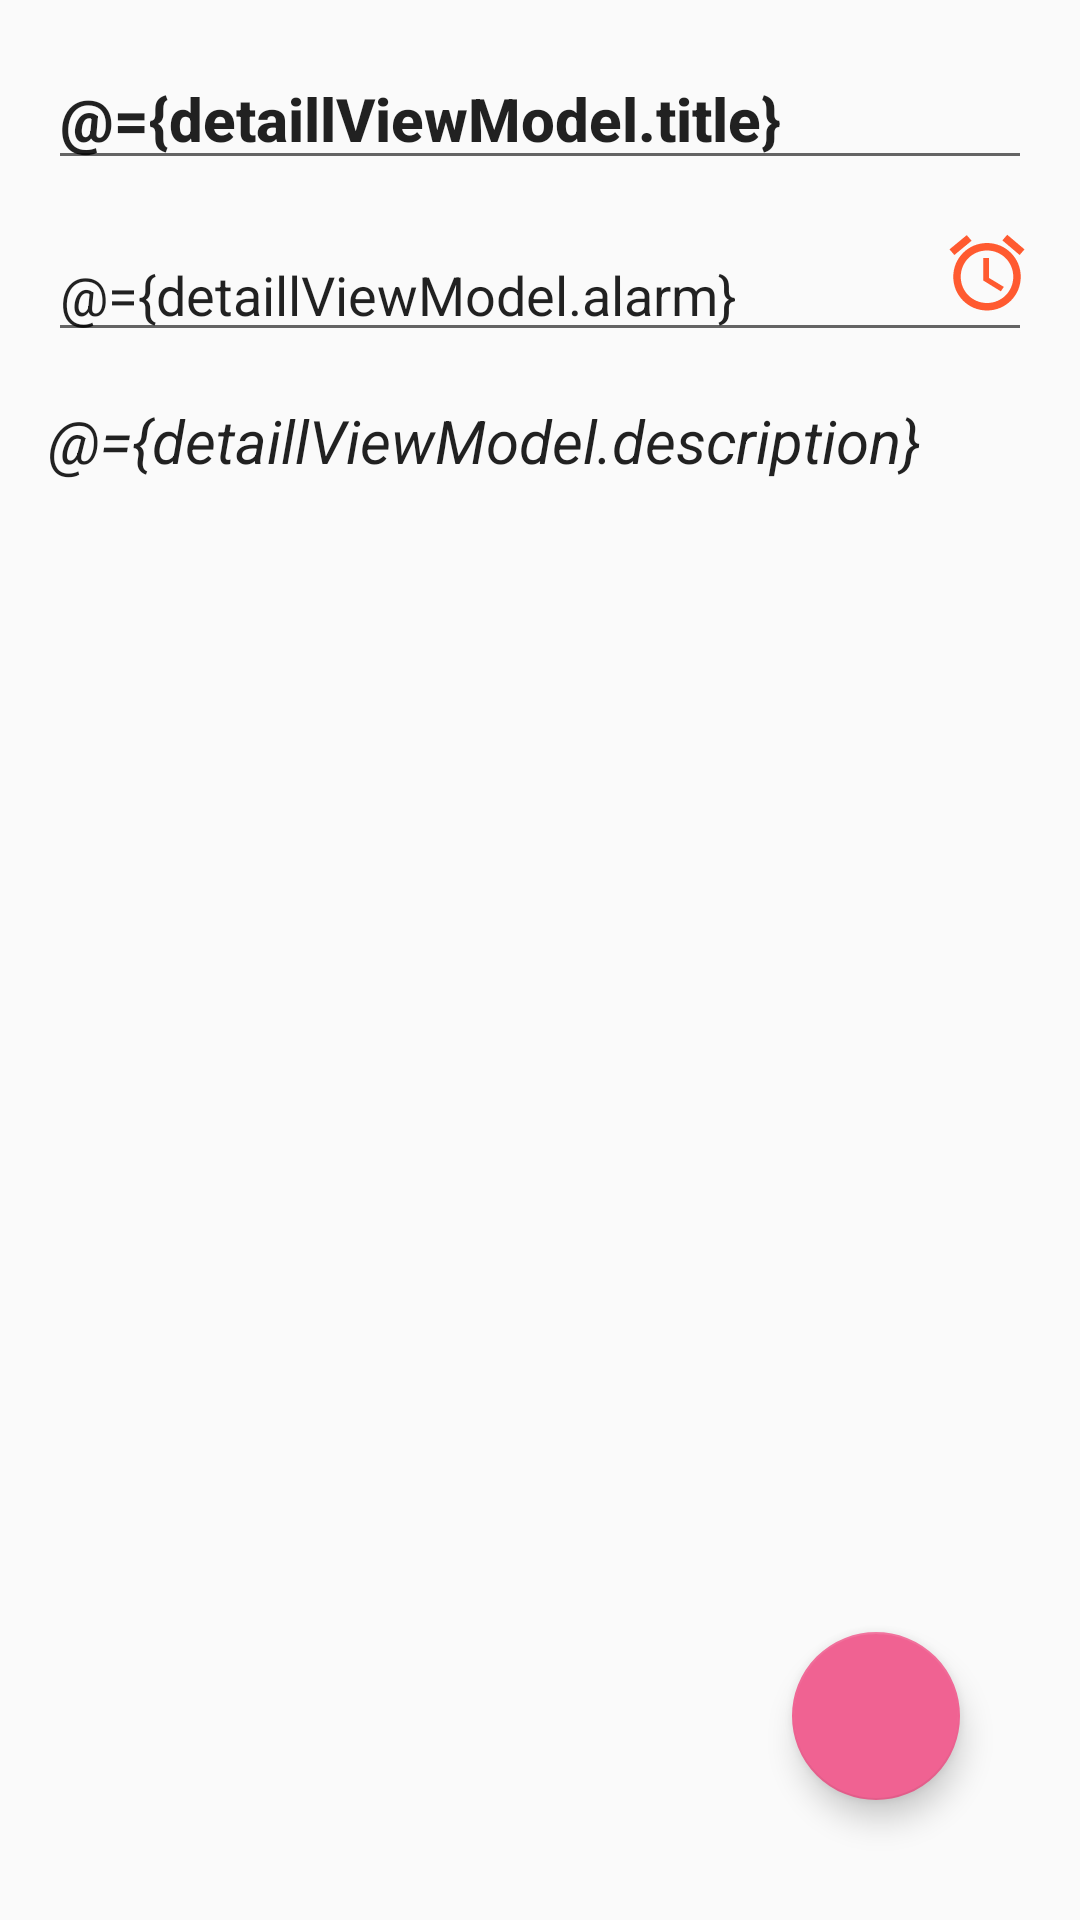

Point at icon controls on the screen. Image size 1080×1920, points as (x,y).
time picker: (987,273)
